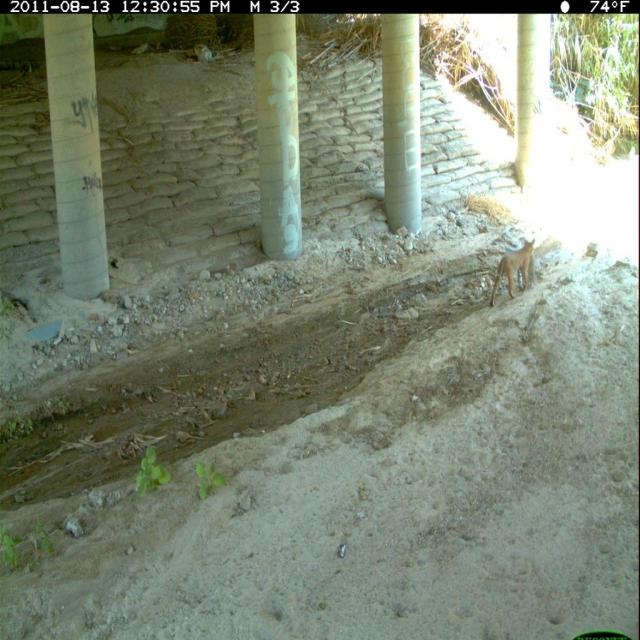bobcat: (488, 233, 537, 312)
rabbit: (524, 251, 539, 295)
